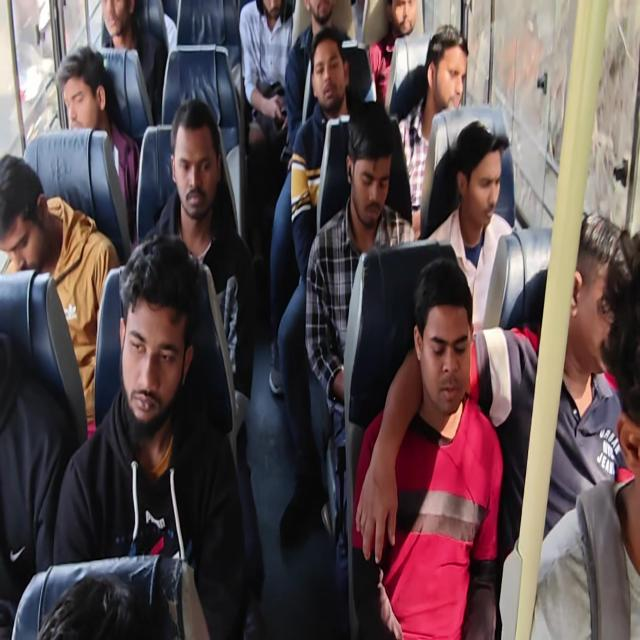person: (114, 227, 195, 430), (36, 568, 179, 640), (602, 219, 640, 486), (562, 198, 621, 367), (419, 247, 473, 428), (168, 92, 229, 238), (0, 140, 60, 277), (446, 111, 508, 232), (343, 97, 394, 221), (57, 42, 121, 136), (426, 12, 467, 114), (306, 26, 350, 110), (98, 2, 130, 40), (392, 0, 416, 37), (258, 1, 286, 23), (309, 0, 336, 22)
